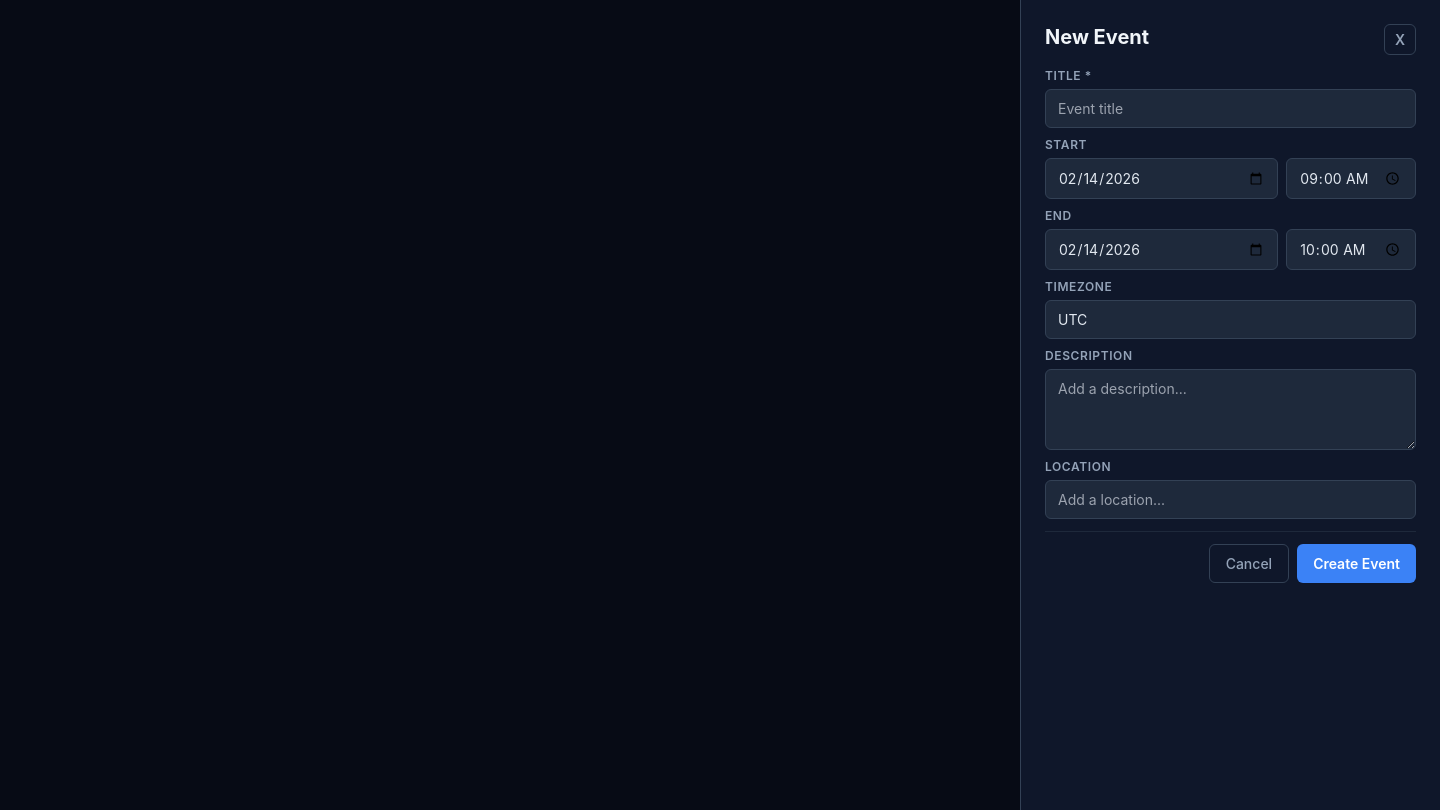
Test: EventCreateForm › validation › clears title error when user types
// Trigger error
Click the button with test id "event-create-submit": (1357, 564) [1297,544,1416,583]
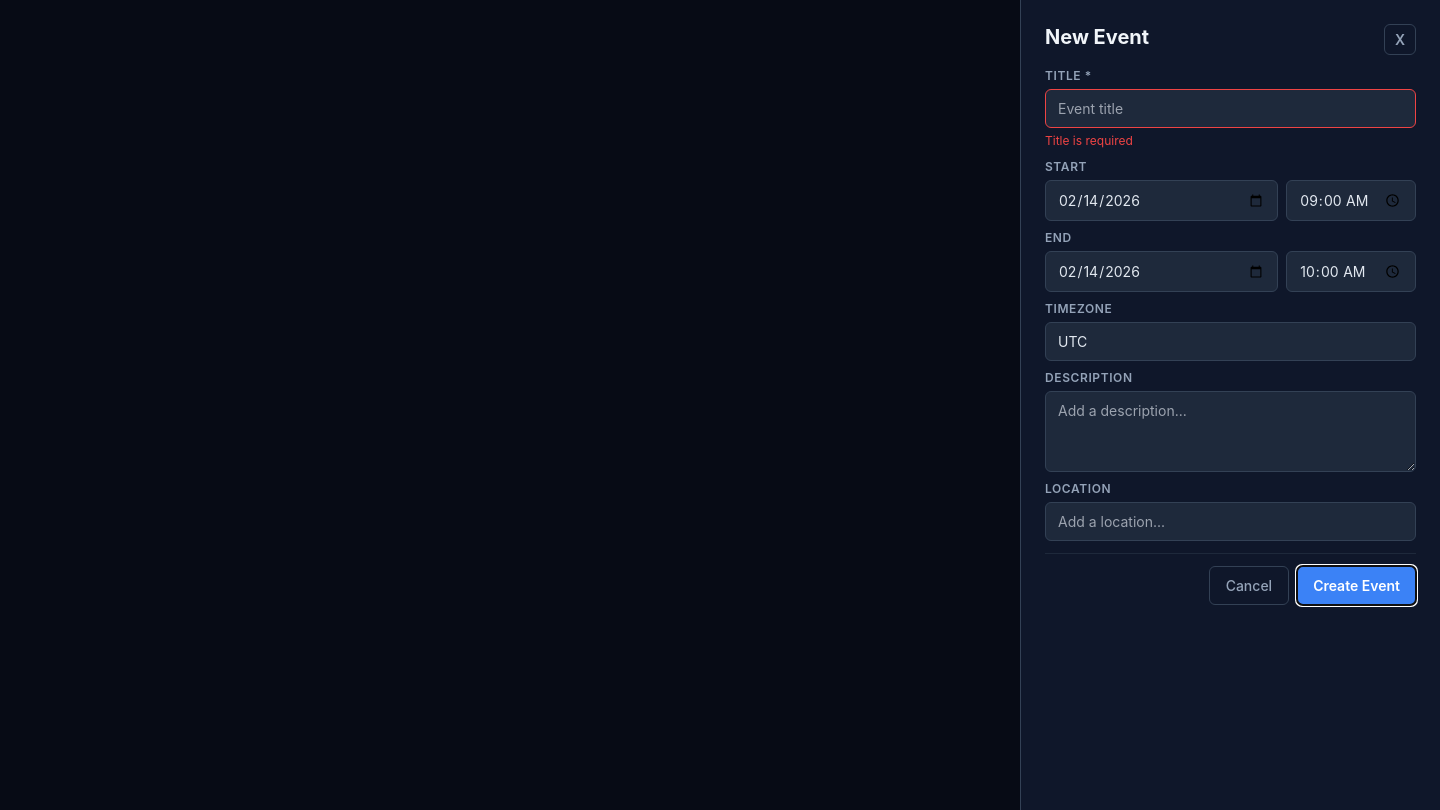
Expected: the text "Title is required" is shown, [1045,133,1133,148]
// Type in title
In the field with test id "event-title-input": (1230, 108) [1045,89,1416,128], type "a"
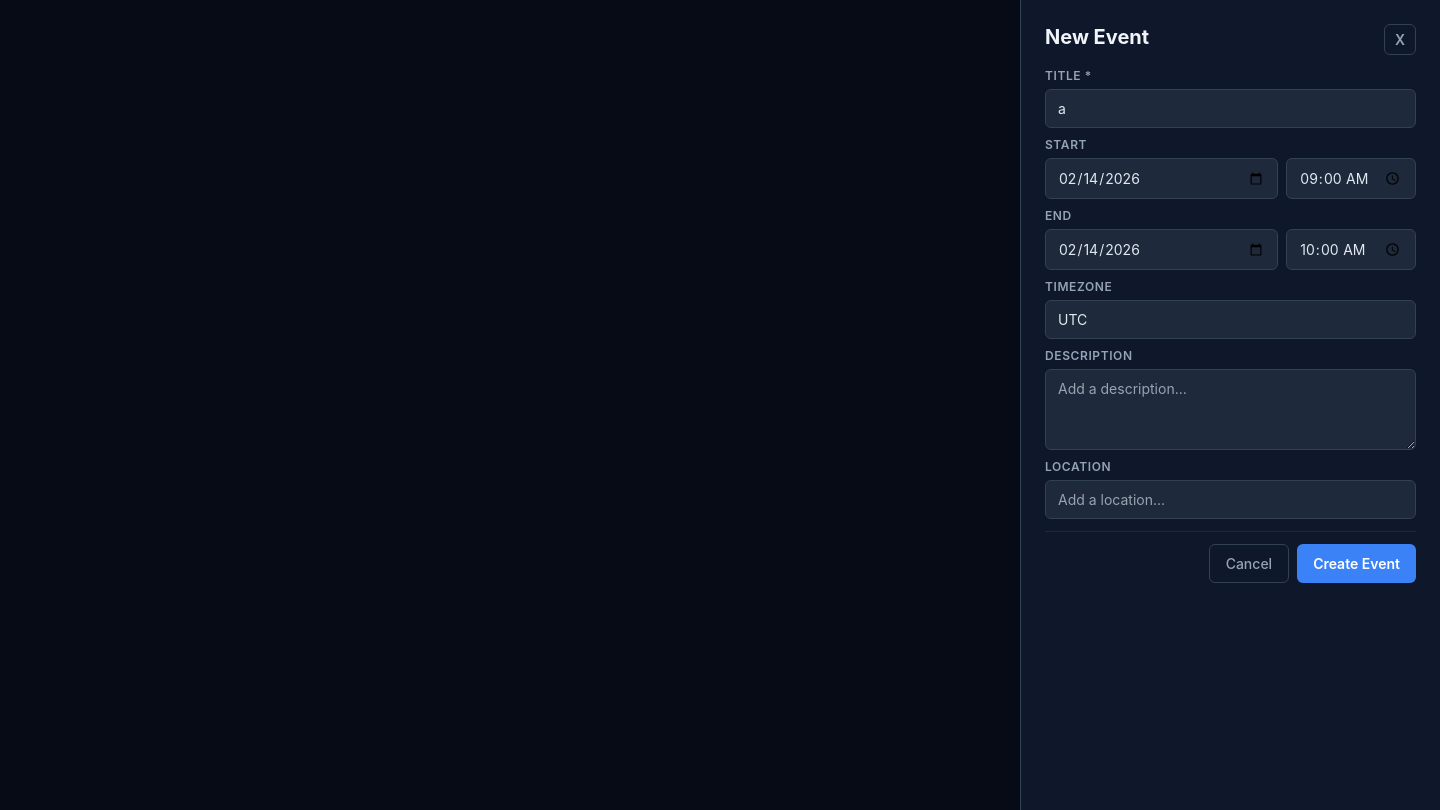
Expected: the text with test id "title-error" is gone
